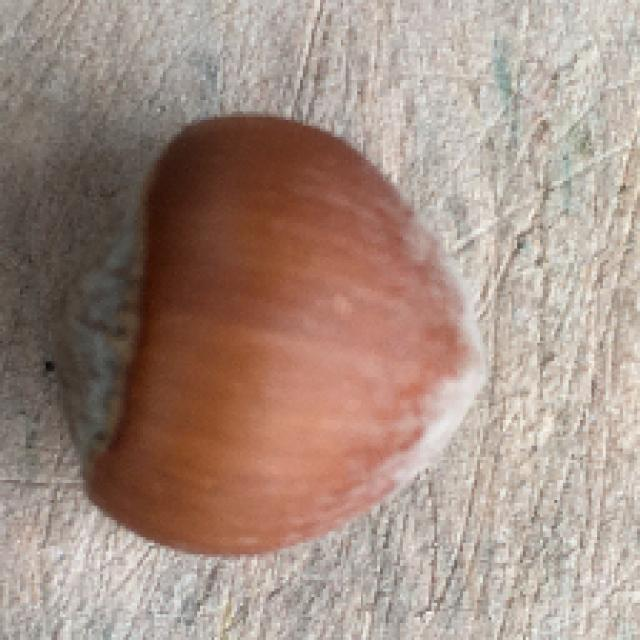hazelnut: (53, 107, 499, 571)
